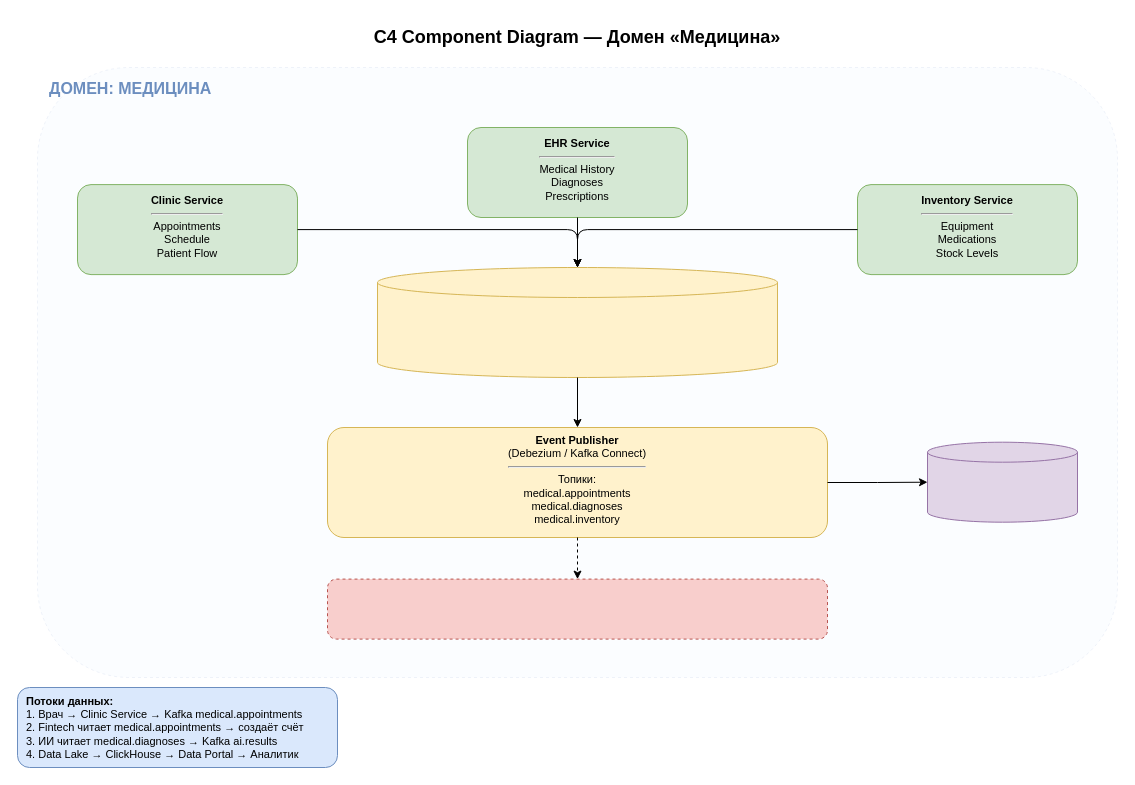
The diagram is 1135 pixels wide and 785 high, and some of its shapes have lost their labels. Here are the shapes that lost their labels. From the top down, the centre of each, then its label:
At (x=577, y=322): "PostgreSQL Transactional Database Схемы: clinic | ehr | inventory".
At (x=1002, y=481): "Kafka Event Bus".
At (x=577, y=608): "Anti-Corruption Layer Чтение старого DWH → маппинг → Kafka".
